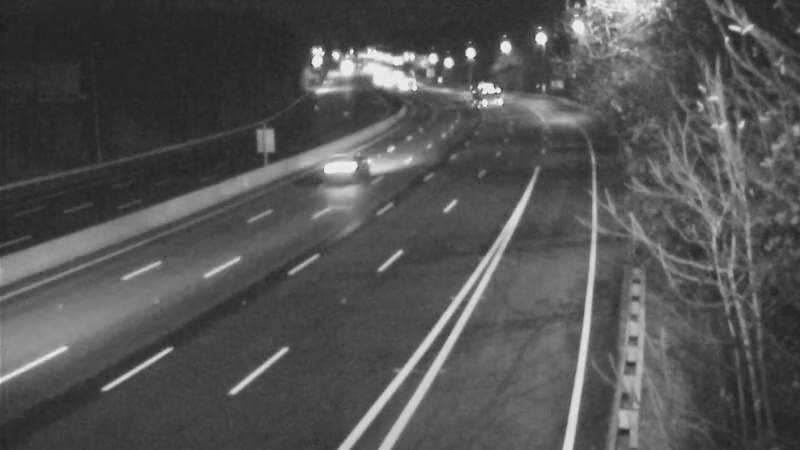vehicle: (300, 132, 380, 212), (451, 59, 501, 109), (381, 55, 431, 105), (465, 73, 515, 123)
